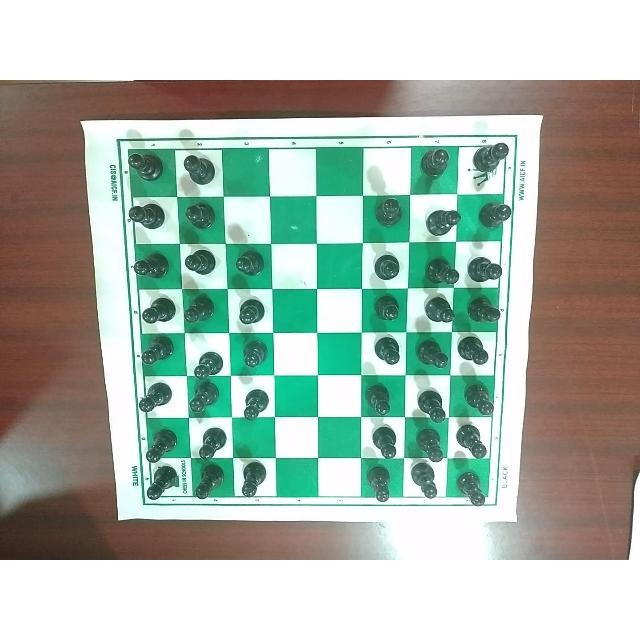black-pawn: (238, 456, 278, 499), (463, 140, 508, 178), (453, 466, 491, 511), (473, 196, 513, 236), (365, 250, 406, 288), (420, 254, 464, 288), (197, 460, 231, 504), (363, 422, 402, 460), (410, 424, 449, 461), (367, 194, 407, 230), (195, 426, 235, 461), (125, 198, 167, 231), (460, 382, 495, 421), (125, 149, 165, 183), (129, 252, 171, 284), (456, 422, 492, 459), (424, 204, 464, 237), (466, 254, 504, 288), (409, 462, 442, 501), (135, 296, 175, 328), (143, 467, 184, 498), (414, 334, 449, 370), (362, 380, 397, 416), (466, 295, 504, 328), (417, 385, 449, 424), (417, 149, 453, 183), (182, 151, 217, 185), (458, 332, 492, 367), (366, 460, 393, 504), (240, 338, 274, 372), (143, 430, 177, 464), (140, 380, 176, 412), (185, 288, 214, 327), (238, 387, 271, 421), (182, 201, 217, 233), (235, 294, 267, 329), (424, 291, 456, 326), (181, 245, 214, 278), (235, 246, 267, 280), (372, 292, 403, 326), (136, 341, 175, 367), (192, 351, 228, 379), (373, 332, 401, 368), (188, 385, 218, 415)
